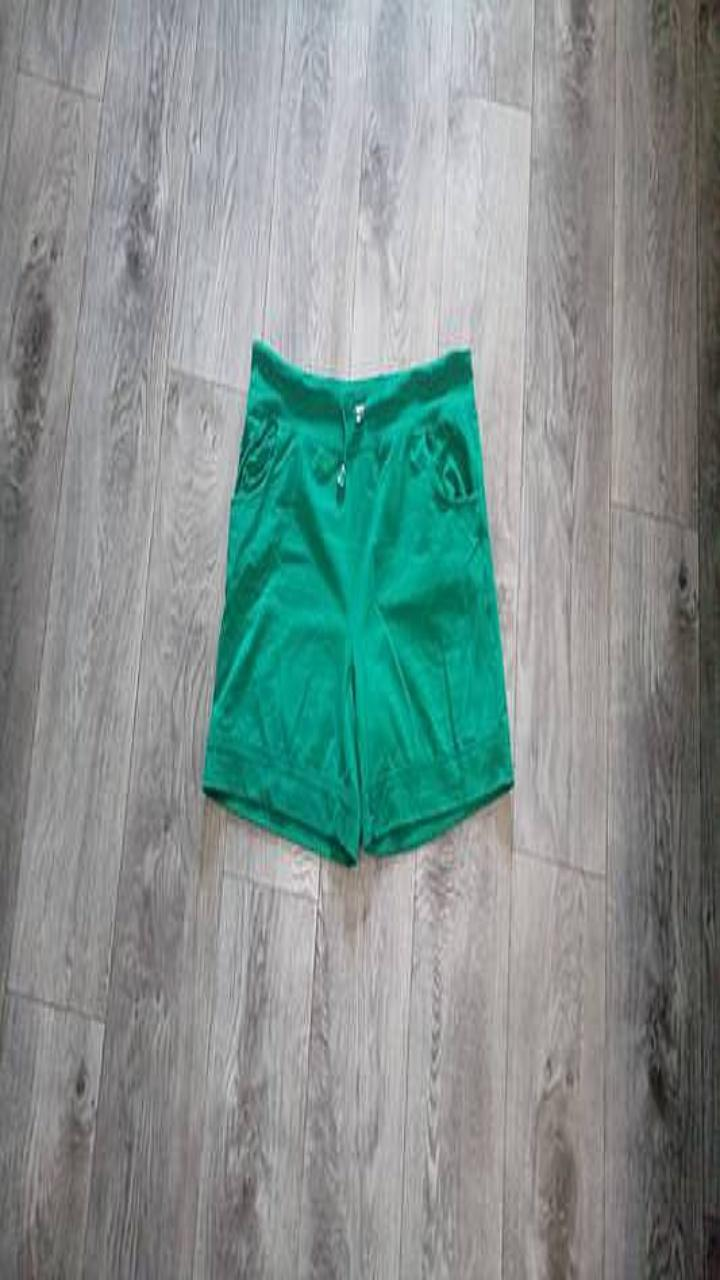Shorts: (203, 341, 512, 863)
